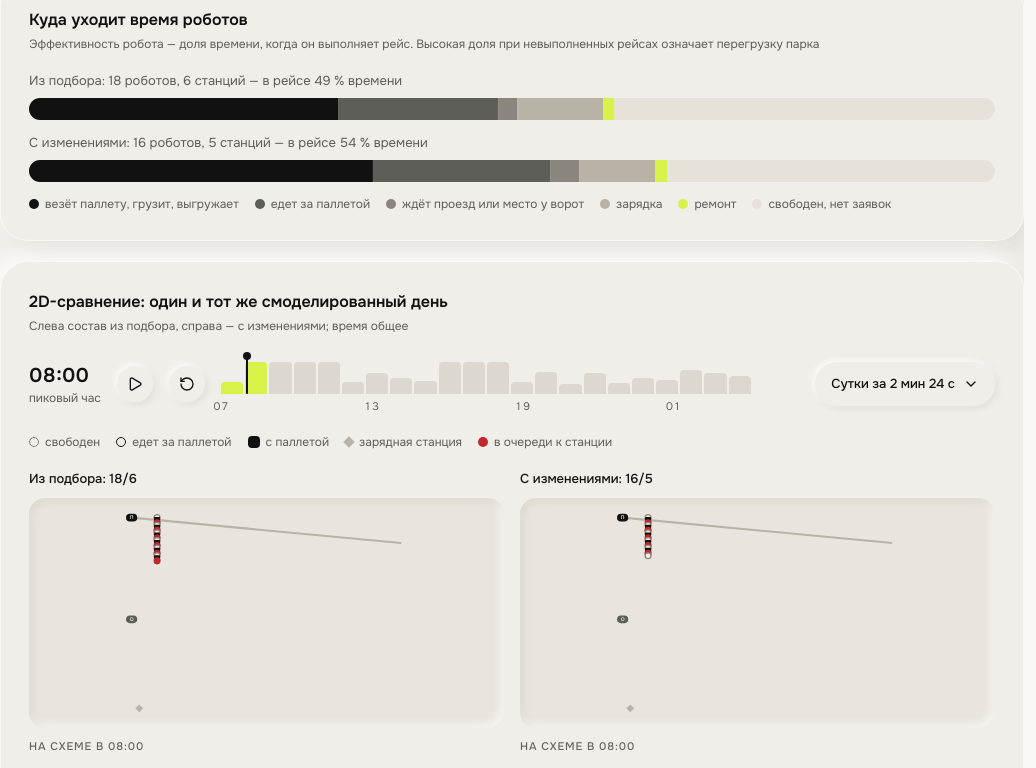
Вкладка «Графики и 2D-сравнение» (3.5 · облегчённый, 17040:10; PRD 11.4, D-105) › два плеера: пауза в начале пика, иконки «Пуск» и «Сначала», скорость «Сутки за 2 мин 24 с», готовность по атрибуту
(page scrolled)
Expected: the picture named "Из подбора: 18/6" is shown, x1=124 y1=510 x2=409 y2=716
Expected: the text "Слева состав из подбора, справа — с изменениями; время общее" is shown, x1=29 y1=318 x2=408 y2=334
Click the dropdown named "Скорость воспроизведения". click: coordinates (905, 384)
box: x1=815 y1=362 x2=995 y2=406
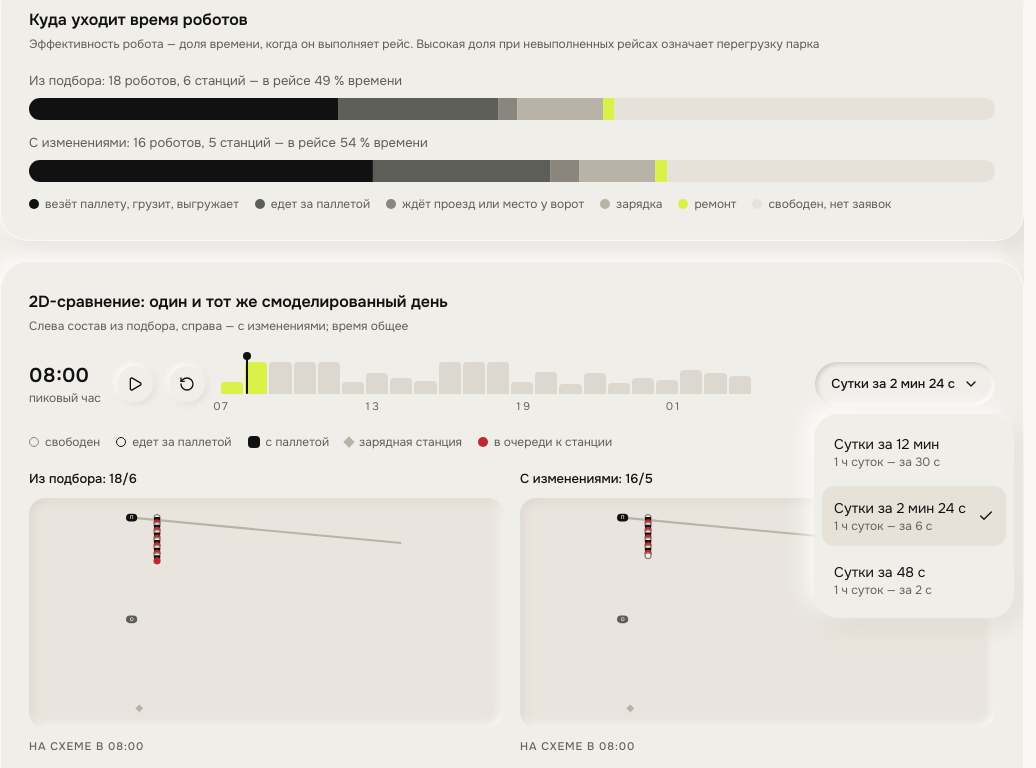
Result: the options read "Сутки за 12 мин1 ч суток — за 30 с", "Сутки за 2 мин 24 с1 ч суток — за 6 с", "Сутки за 48 с1 ч суток — за 2 с", in this order
Press Escape in the option "Сутки за 12 мин 1 ч суток — за 30 с", box x1=834 y1=435 x2=940 y2=470
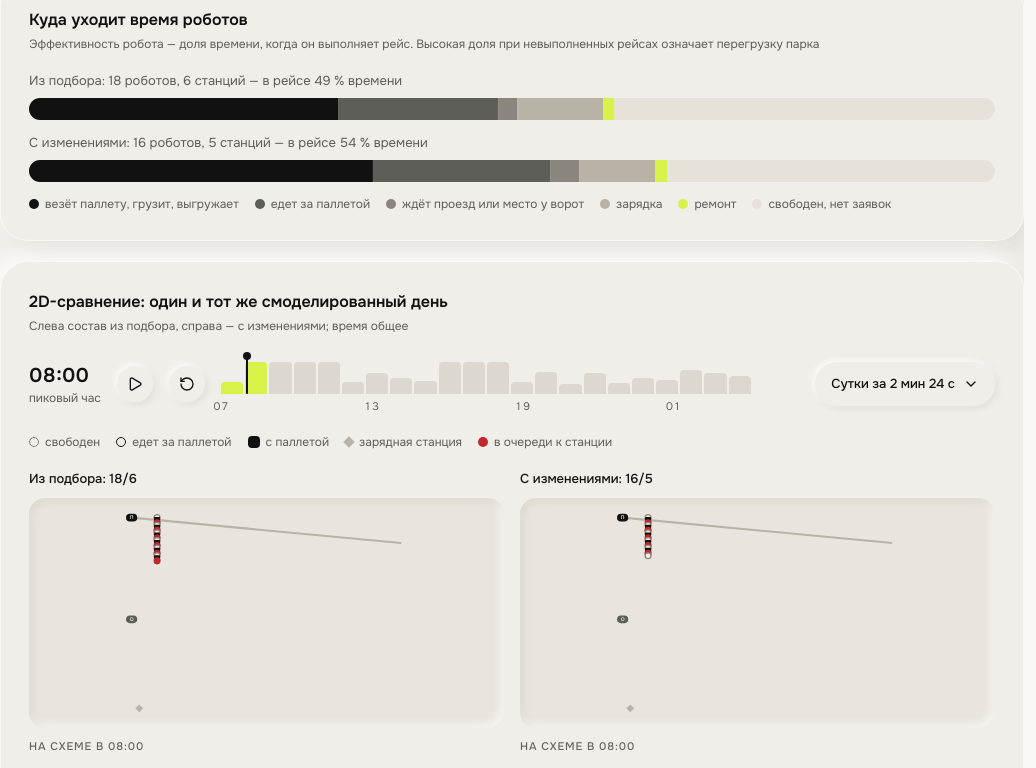
Click the button named "Пуск". click: coordinates (135, 384)
box: x1=117 y1=366 x2=153 y2=402
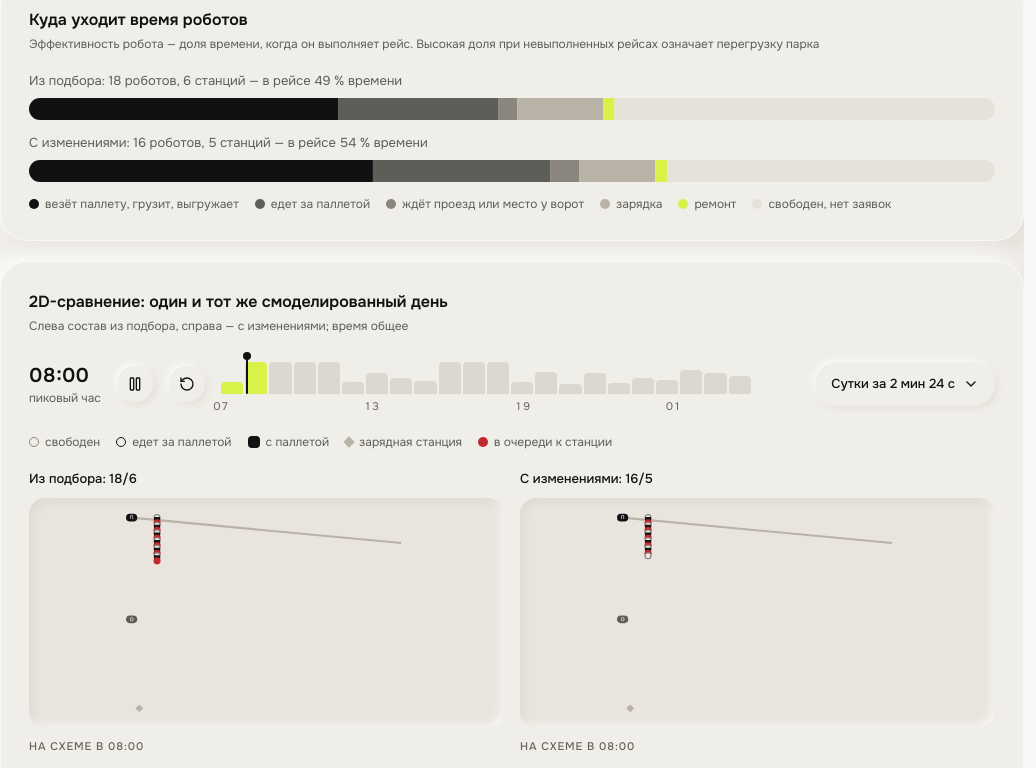
Click the button named "Пауза". click: coordinates (135, 384)
box: x1=117 y1=366 x2=153 y2=402
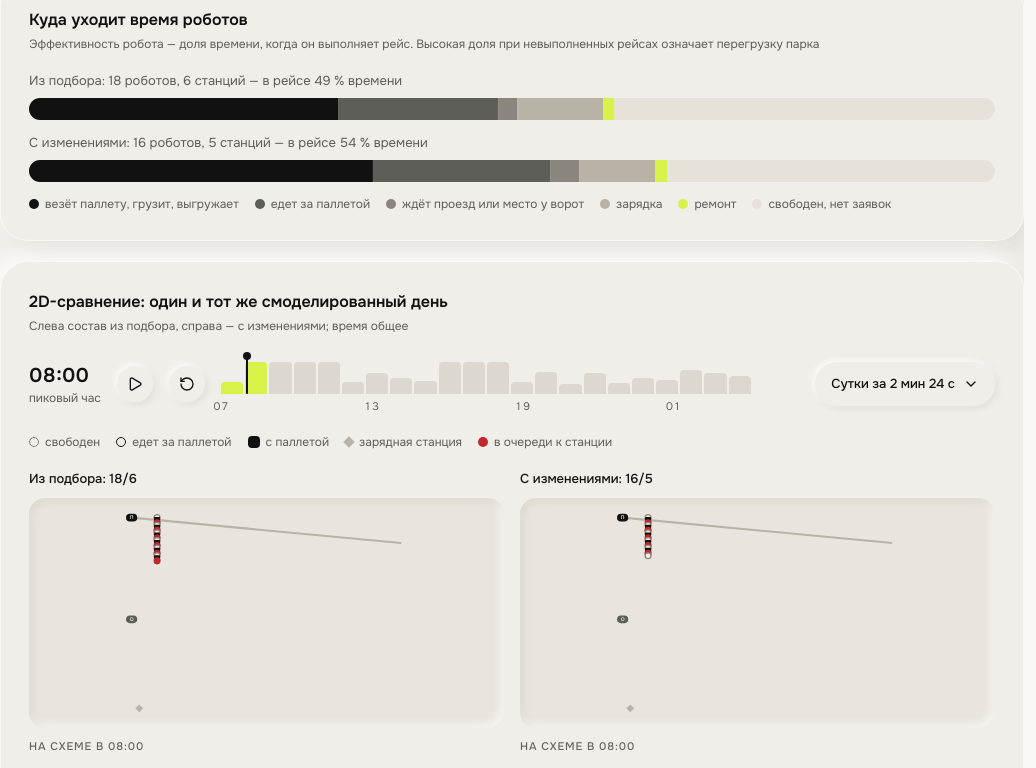
Click the button named "Сначала". click: coordinates (187, 384)
box: x1=169 y1=366 x2=205 y2=402
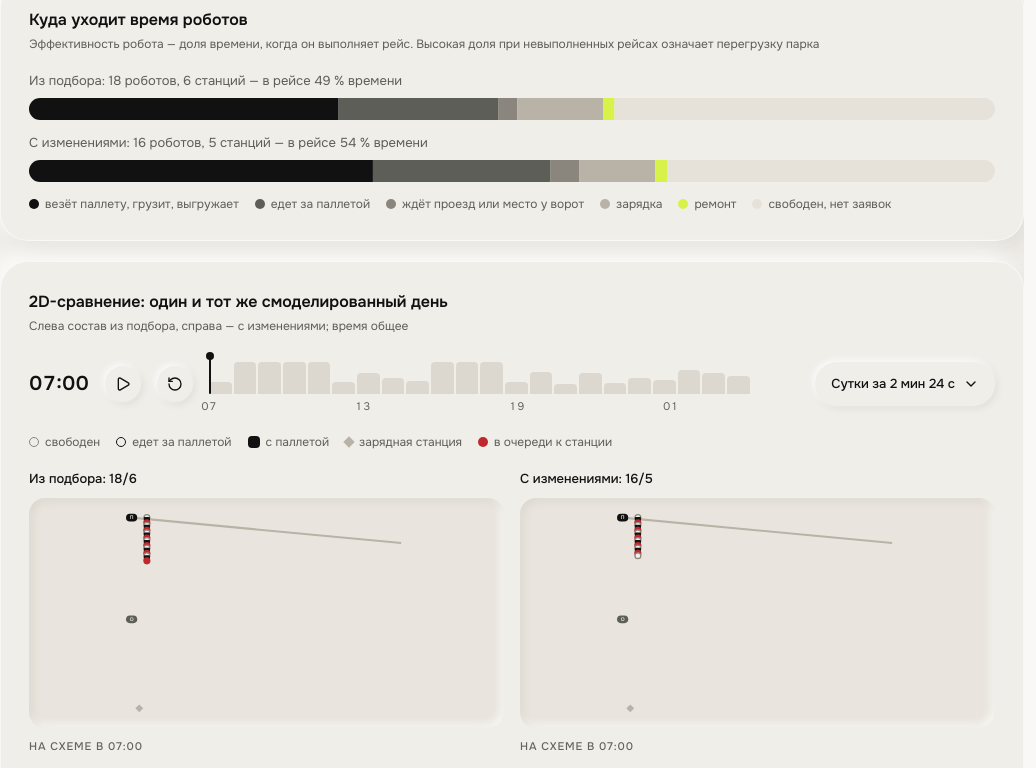
Result: the text named "Время дня" reads "07:00" at x1=29 y1=371 x2=89 y2=396
Press End in the slider named "Время дня", box x1=209 y1=354 x2=211 y2=394
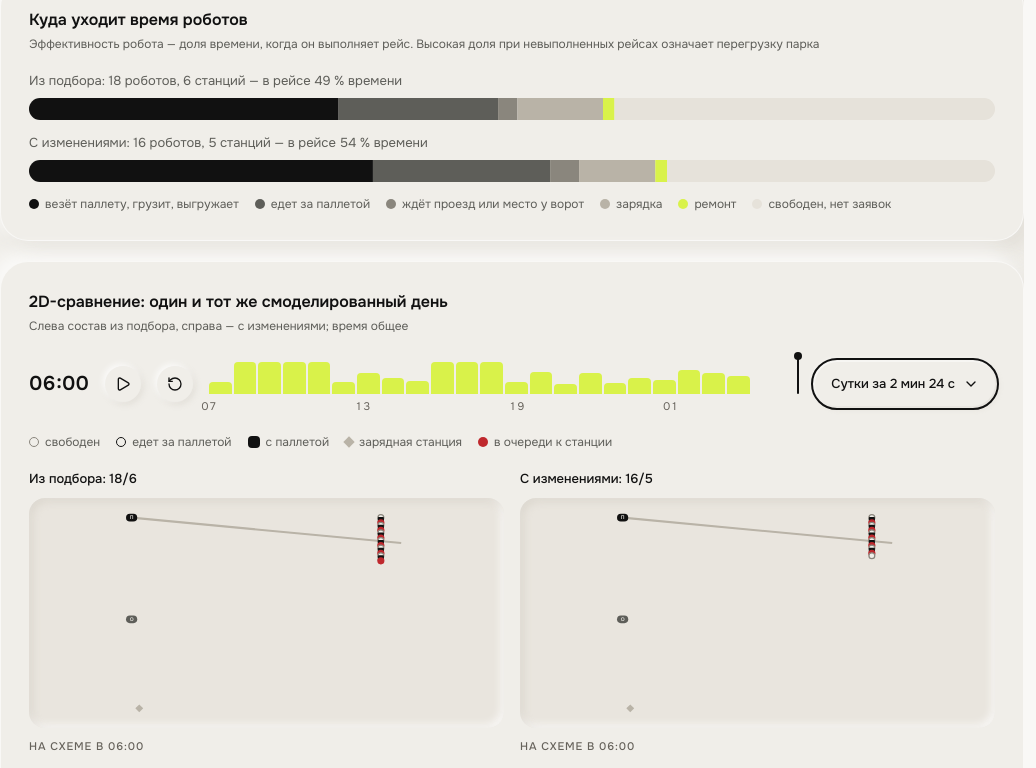
Result: the text named "Время дня" reads "06:00" at x1=29 y1=371 x2=89 y2=396
